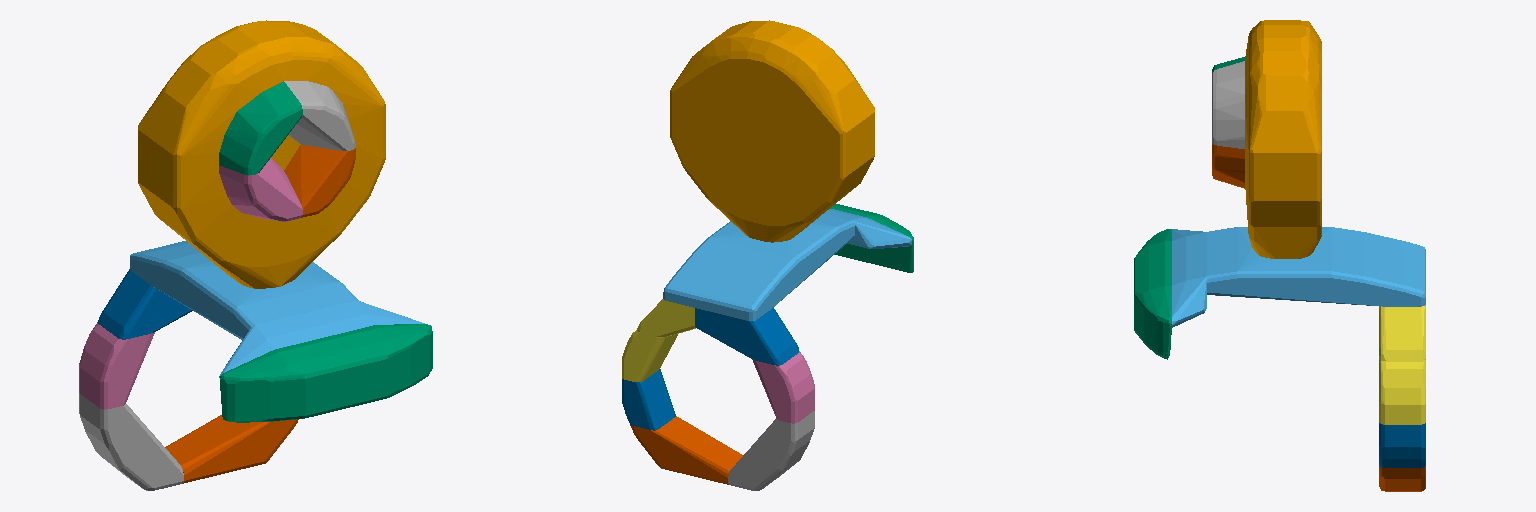
URDF robot description (sem-Camera-1221201ed6aac041745b4b48c30a506e):
<?xml version="1.0"?>
<robot name="sem-Camera-1221201ed6aac041745b4b48c30a506e">
  <link name="object_root"/>
  <link name="convex_piece_000">
    <visual><geometry><mesh filename="pieces/piece_000.obj"/></geometry></visual>
    <collision><geometry><mesh filename="pieces/piece_000.obj"/></geometry></collision>
  </link>
  <joint name="piece_joint_000" type="fixed">
    <parent link="object_root"/>
    <child link="convex_piece_000"/>
    <origin xyz="0 0 0" rpy="0 0 0"/>
  </joint>
  <link name="convex_piece_001">
    <visual><geometry><mesh filename="pieces/piece_001.obj"/></geometry></visual>
    <collision><geometry><mesh filename="pieces/piece_001.obj"/></geometry></collision>
  </link>
  <joint name="piece_joint_001" type="fixed">
    <parent link="object_root"/>
    <child link="convex_piece_001"/>
    <origin xyz="0 0 0" rpy="0 0 0"/>
  </joint>
  <link name="convex_piece_002">
    <visual><geometry><mesh filename="pieces/piece_002.obj"/></geometry></visual>
    <collision><geometry><mesh filename="pieces/piece_002.obj"/></geometry></collision>
  </link>
  <joint name="piece_joint_002" type="fixed">
    <parent link="object_root"/>
    <child link="convex_piece_002"/>
    <origin xyz="0 0 0" rpy="0 0 0"/>
  </joint>
  <link name="convex_piece_003">
    <visual><geometry><mesh filename="pieces/piece_003.obj"/></geometry></visual>
    <collision><geometry><mesh filename="pieces/piece_003.obj"/></geometry></collision>
  </link>
  <joint name="piece_joint_003" type="fixed">
    <parent link="object_root"/>
    <child link="convex_piece_003"/>
    <origin xyz="0 0 0" rpy="0 0 0"/>
  </joint>
  <link name="convex_piece_004">
    <visual><geometry><mesh filename="pieces/piece_004.obj"/></geometry></visual>
    <collision><geometry><mesh filename="pieces/piece_004.obj"/></geometry></collision>
  </link>
  <joint name="piece_joint_004" type="fixed">
    <parent link="object_root"/>
    <child link="convex_piece_004"/>
    <origin xyz="0 0 0" rpy="0 0 0"/>
  </joint>
  <link name="convex_piece_005">
    <visual><geometry><mesh filename="pieces/piece_005.obj"/></geometry></visual>
    <collision><geometry><mesh filename="pieces/piece_005.obj"/></geometry></collision>
  </link>
  <joint name="piece_joint_005" type="fixed">
    <parent link="object_root"/>
    <child link="convex_piece_005"/>
    <origin xyz="0 0 0" rpy="0 0 0"/>
  </joint>
  <link name="convex_piece_006">
    <visual><geometry><mesh filename="pieces/piece_006.obj"/></geometry></visual>
    <collision><geometry><mesh filename="pieces/piece_006.obj"/></geometry></collision>
  </link>
  <joint name="piece_joint_006" type="fixed">
    <parent link="object_root"/>
    <child link="convex_piece_006"/>
    <origin xyz="0 0 0" rpy="0 0 0"/>
  </joint>
  <link name="convex_piece_007">
    <visual><geometry><mesh filename="pieces/piece_007.obj"/></geometry></visual>
    <collision><geometry><mesh filename="pieces/piece_007.obj"/></geometry></collision>
  </link>
  <joint name="piece_joint_007" type="fixed">
    <parent link="object_root"/>
    <child link="convex_piece_007"/>
    <origin xyz="0 0 0" rpy="0 0 0"/>
  </joint>
  <link name="convex_piece_008">
    <visual><geometry><mesh filename="pieces/piece_008.obj"/></geometry></visual>
    <collision><geometry><mesh filename="pieces/piece_008.obj"/></geometry></collision>
  </link>
  <joint name="piece_joint_008" type="fixed">
    <parent link="object_root"/>
    <child link="convex_piece_008"/>
    <origin xyz="0 0 0" rpy="0 0 0"/>
  </joint>
  <link name="convex_piece_009">
    <visual><geometry><mesh filename="pieces/piece_009.obj"/></geometry></visual>
    <collision><geometry><mesh filename="pieces/piece_009.obj"/></geometry></collision>
  </link>
  <joint name="piece_joint_009" type="fixed">
    <parent link="object_root"/>
    <child link="convex_piece_009"/>
    <origin xyz="0 0 0" rpy="0 0 0"/>
  </joint>
  <link name="convex_piece_010">
    <visual><geometry><mesh filename="pieces/piece_010.obj"/></geometry></visual>
    <collision><geometry><mesh filename="pieces/piece_010.obj"/></geometry></collision>
  </link>
  <joint name="piece_joint_010" type="fixed">
    <parent link="object_root"/>
    <child link="convex_piece_010"/>
    <origin xyz="0 0 0" rpy="0 0 0"/>
  </joint>
  <link name="convex_piece_011">
    <visual><geometry><mesh filename="pieces/piece_011.obj"/></geometry></visual>
    <collision><geometry><mesh filename="pieces/piece_011.obj"/></geometry></collision>
  </link>
  <joint name="piece_joint_011" type="fixed">
    <parent link="object_root"/>
    <child link="convex_piece_011"/>
    <origin xyz="0 0 0" rpy="0 0 0"/>
  </joint>
  <link name="convex_piece_012">
    <visual><geometry><mesh filename="pieces/piece_012.obj"/></geometry></visual>
    <collision><geometry><mesh filename="pieces/piece_012.obj"/></geometry></collision>
  </link>
  <joint name="piece_joint_012" type="fixed">
    <parent link="object_root"/>
    <child link="convex_piece_012"/>
    <origin xyz="0 0 0" rpy="0 0 0"/>
  </joint>
  <link name="convex_piece_013">
    <visual><geometry><mesh filename="pieces/piece_013.obj"/></geometry></visual>
    <collision><geometry><mesh filename="pieces/piece_013.obj"/></geometry></collision>
  </link>
  <joint name="piece_joint_013" type="fixed">
    <parent link="object_root"/>
    <child link="convex_piece_013"/>
    <origin xyz="0 0 0" rpy="0 0 0"/>
  </joint>
  <link name="convex_piece_014">
    <visual><geometry><mesh filename="pieces/piece_014.obj"/></geometry></visual>
    <collision><geometry><mesh filename="pieces/piece_014.obj"/></geometry></collision>
  </link>
  <joint name="piece_joint_014" type="fixed">
    <parent link="object_root"/>
    <child link="convex_piece_014"/>
    <origin xyz="0 0 0" rpy="0 0 0"/>
  </joint>
</robot>

--- Facts derived from the render (not from the file) ---
Views: 3 orthographic renders of the robot side by side, from view 1: azimuth 30°, elevation 25°; view 2: azimuth 150°, elevation 25°; view 3: azimuth 270°, elevation 25°.
Robot: sem-Camera-1221201ed6aac041745b4b48c30a506e — 16 links, 15 joints (15 fixed); root link object_root; default pose: all joints at 0.
Links seen in each view (by area): view 1: convex_piece_007, convex_piece_009, convex_piece_000, convex_piece_006, convex_piece_004, convex_piece_001, convex_piece_008, convex_piece_005, convex_piece_003, convex_piece_012, convex_piece_013, convex_piece_014; view 2: convex_piece_007, convex_piece_000, convex_piece_004, convex_piece_006, convex_piece_003, convex_piece_005, convex_piece_011, convex_piece_009, convex_piece_010, convex_piece_002, convex_piece_008; view 3: convex_piece_007, convex_piece_000, convex_piece_009, convex_piece_008, convex_piece_010, convex_piece_014, convex_piece_002, convex_piece_011, convex_piece_012, convex_piece_004.
Link boxes in pixels (bbox=[...]): convex_piece_007: bbox=[138, 20, 385, 288]; convex_piece_009: bbox=[220, 324, 432, 422]; convex_piece_000: bbox=[130, 241, 358, 339]; convex_piece_006: bbox=[79, 393, 183, 490]; convex_piece_004: bbox=[165, 415, 298, 483]; convex_piece_001: bbox=[219, 81, 302, 175]; convex_piece_008: bbox=[219, 300, 424, 377]; convex_piece_005: bbox=[79, 322, 154, 409]; convex_piece_003: bbox=[98, 269, 192, 339]; convex_piece_012: bbox=[284, 145, 355, 217]; convex_piece_013: bbox=[219, 158, 302, 221]; convex_piece_014: bbox=[284, 81, 355, 150]; convex_piece_007: bbox=[670, 20, 874, 242]; convex_piece_000: bbox=[663, 214, 854, 320]; convex_piece_004: bbox=[630, 416, 742, 484]; convex_piece_006: bbox=[728, 411, 814, 490]; convex_piece_003: bbox=[695, 307, 798, 365]; convex_piece_005: bbox=[752, 351, 814, 423]; convex_piece_011: bbox=[622, 369, 675, 430]; convex_piece_009: bbox=[830, 204, 913, 272]; convex_piece_010: bbox=[622, 330, 677, 381]; convex_piece_002: bbox=[637, 299, 695, 336]; convex_piece_008: bbox=[824, 209, 911, 248]; convex_piece_007: bbox=[1245, 20, 1321, 258]; convex_piece_000: bbox=[1207, 227, 1425, 306]; convex_piece_009: bbox=[1134, 229, 1171, 359]; convex_piece_008: bbox=[1172, 229, 1206, 327]; convex_piece_010: bbox=[1379, 359, 1425, 424]; convex_piece_014: bbox=[1212, 61, 1244, 148]; convex_piece_002: bbox=[1379, 305, 1425, 361]; convex_piece_011: bbox=[1379, 423, 1425, 467]; convex_piece_012: bbox=[1212, 144, 1244, 188]; convex_piece_004: bbox=[1379, 465, 1425, 491].
Size in the robot's own frame: 0.0749 by 0.0999 by 0.1642 metres.
15 mesh visuals loaded from 15 distinct referenced files (15 OBJ).
